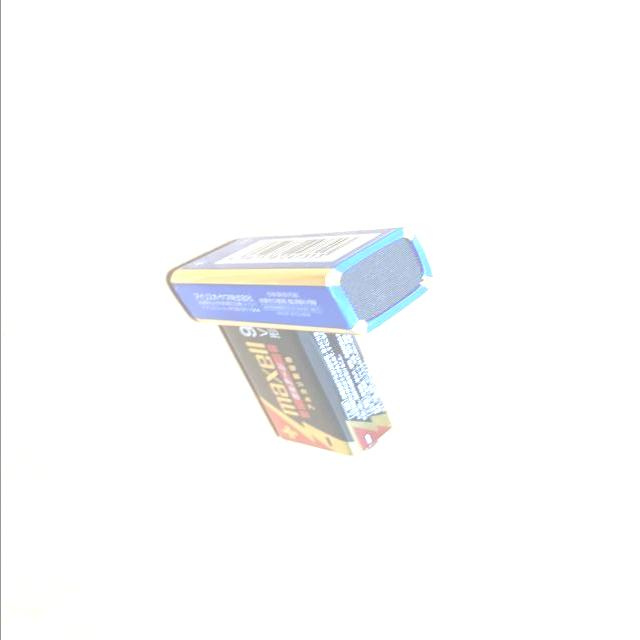9V: (165, 226, 435, 337), (215, 324, 392, 458)
